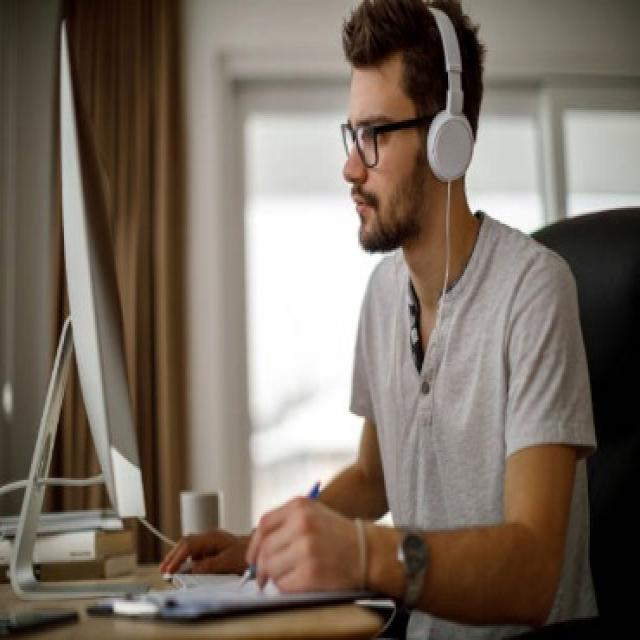adult: (304, 0, 614, 640)
